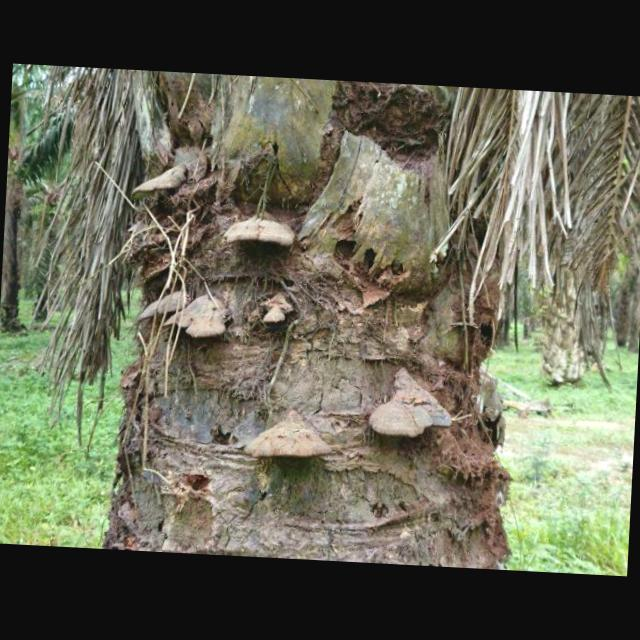ganoderma: (365, 364, 457, 442), (242, 405, 338, 465), (222, 209, 298, 250), (180, 294, 232, 342), (130, 160, 190, 199), (134, 287, 192, 325), (259, 288, 296, 327)
